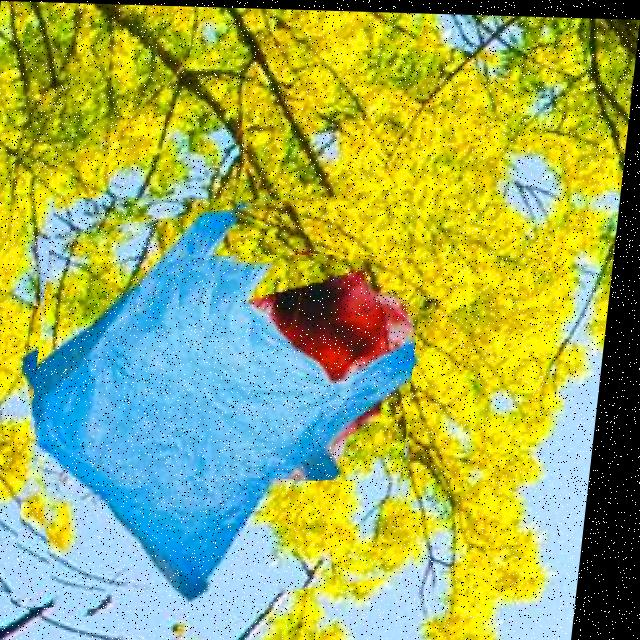plasticcover: (23, 190, 446, 614), (189, 247, 430, 478)
